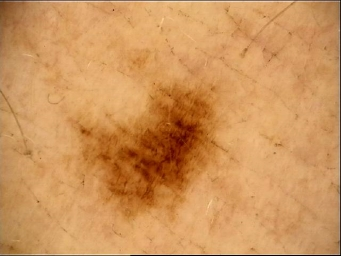melanoma: (68, 84, 213, 222)
